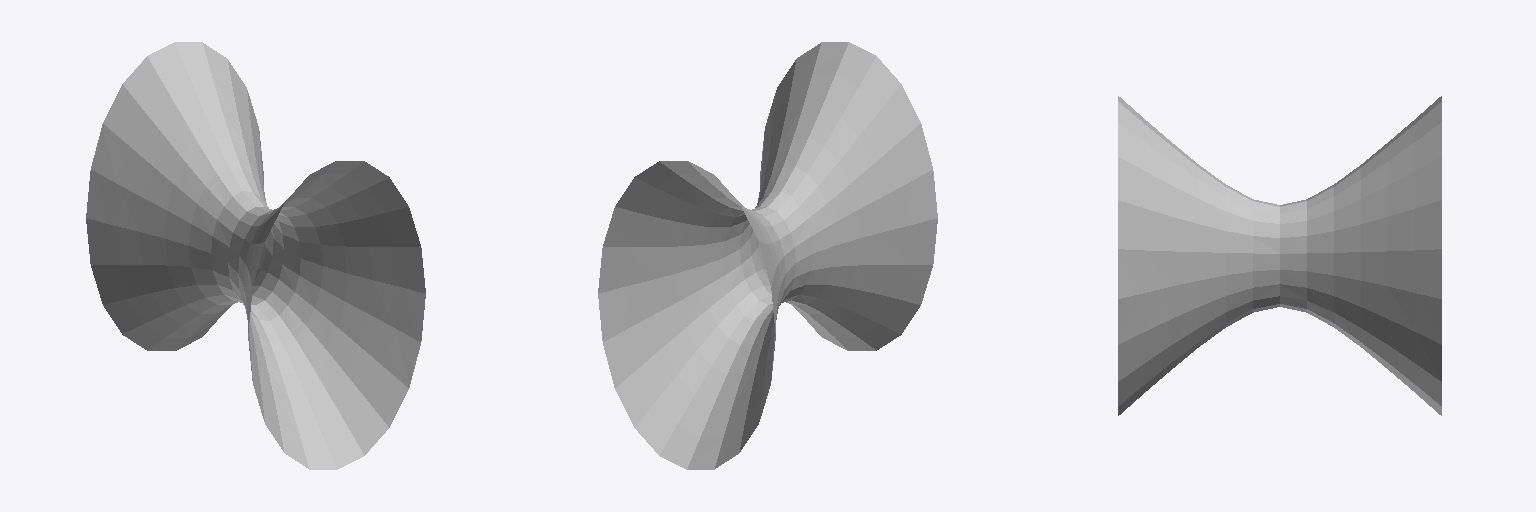
Rendered from hyperbo1.obj.
3 renders of one model, left to right at view 1: azimuth 30°, elevation 25°; view 2: azimuth 150°, elevation 25°; view 3: azimuth 270°, elevation 25°, orthographic.
Visible parts, largest first — view 1: hyperbo1, hyperbo1.001; view 2: hyperbo1, hyperbo1.001; view 3: hyperbo1, hyperbo1.001.
Boxes of the visible parts, x1,y1,x2,y2 form: hyperbo1: [86, 42, 425, 469]; hyperbo1.001: [86, 42, 425, 469]; hyperbo1: [598, 42, 937, 469]; hyperbo1.001: [598, 42, 937, 469]; hyperbo1: [1118, 96, 1441, 415]; hyperbo1.001: [1118, 99, 1441, 415].
Size of the model in its own units: 3.8 by 6.32 by 6.